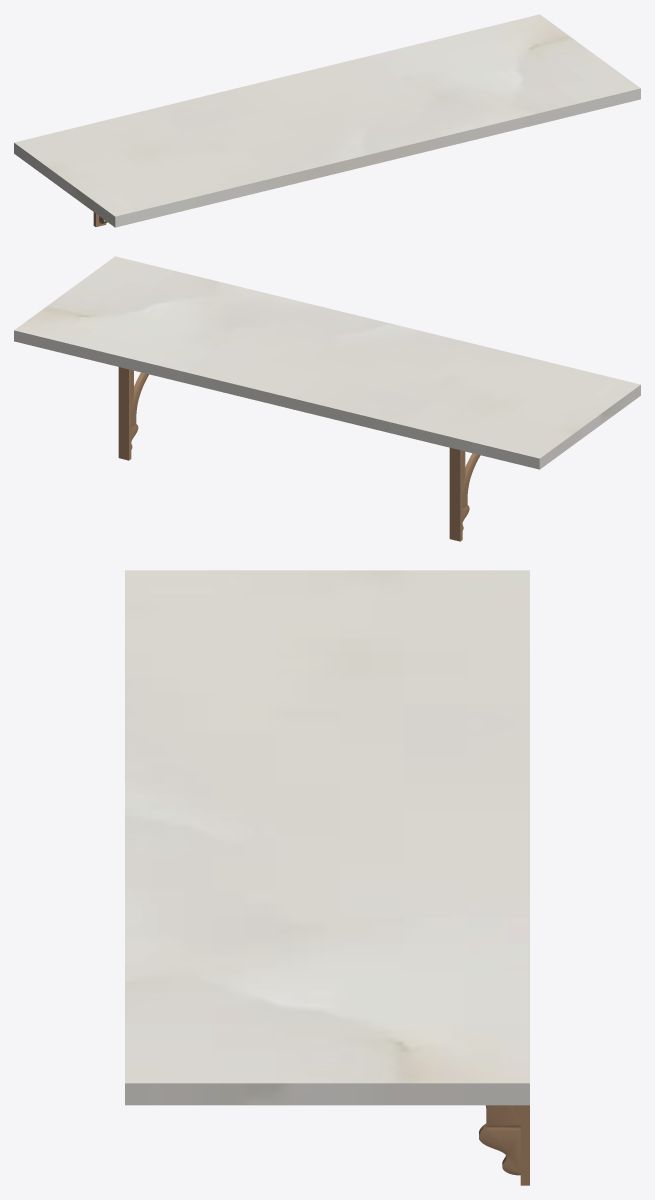
The model's file is FLOATING SHELF 600 MM.glb.
3 views of the same model, one above another, from view 1: azimuth 30°, elevation 25°; view 2: azimuth 150°, elevation 25°; view 3: azimuth 270°, elevation 25° (orthographic). The views are drawn at different scales.
Size of the model in its own units: 0.6 by 0.1116 by 0.2.
Materials: 2 (1 with a texture image).
